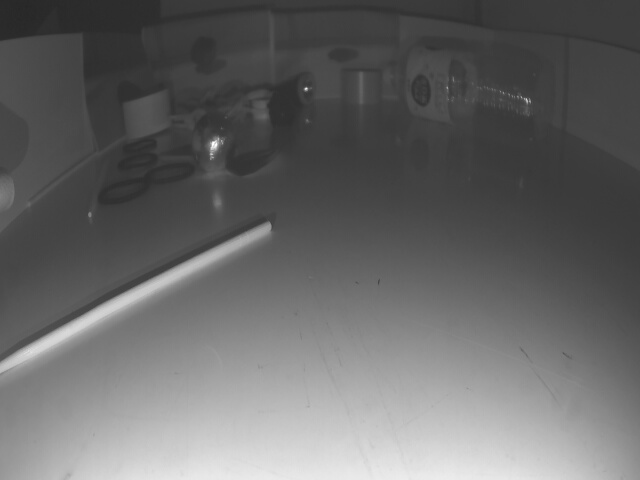Live: (193, 115, 231, 170)
